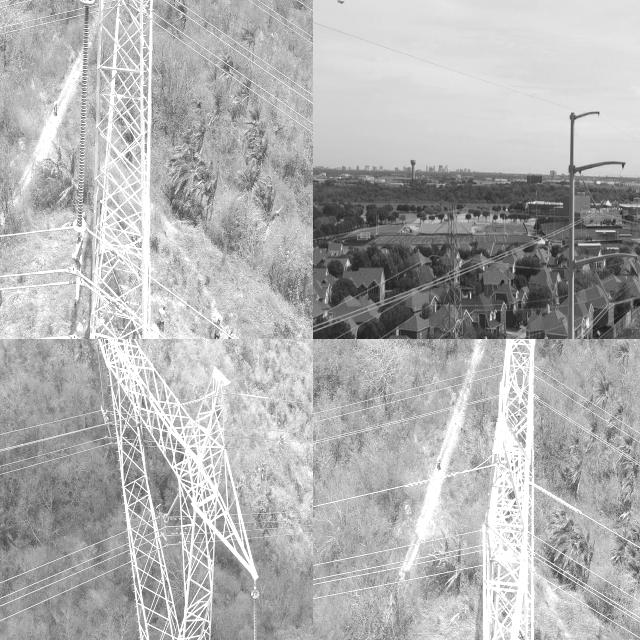杆塔: (89, 339, 268, 640), (80, 0, 160, 339), (470, 339, 558, 640), (428, 170, 481, 339)
正常绝缘子: (70, 0, 95, 260), (94, 339, 109, 417), (247, 574, 263, 640), (582, 178, 601, 215), (609, 273, 630, 306), (594, 267, 612, 304), (596, 182, 616, 212)
